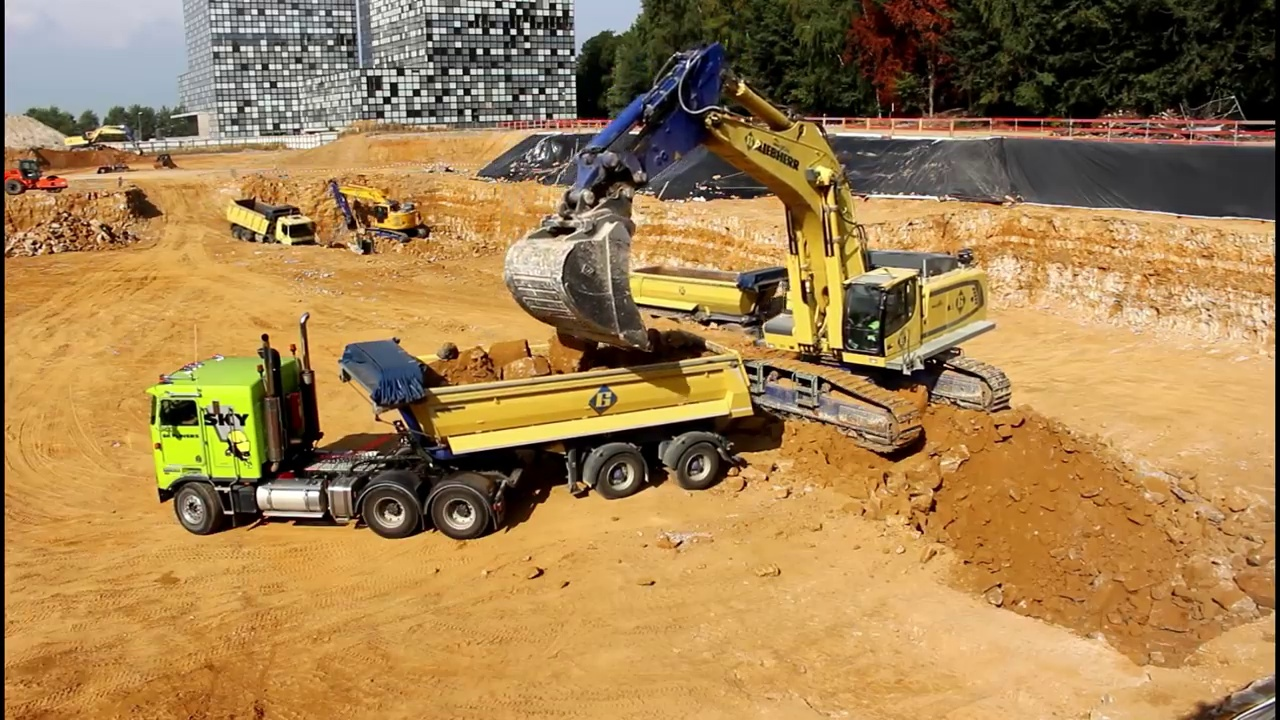compactor: (5, 154, 68, 202)
excavator: (501, 40, 1016, 457), (321, 174, 432, 252), (63, 123, 150, 164)
truck: (142, 306, 759, 545), (623, 252, 857, 368), (222, 195, 322, 258)
